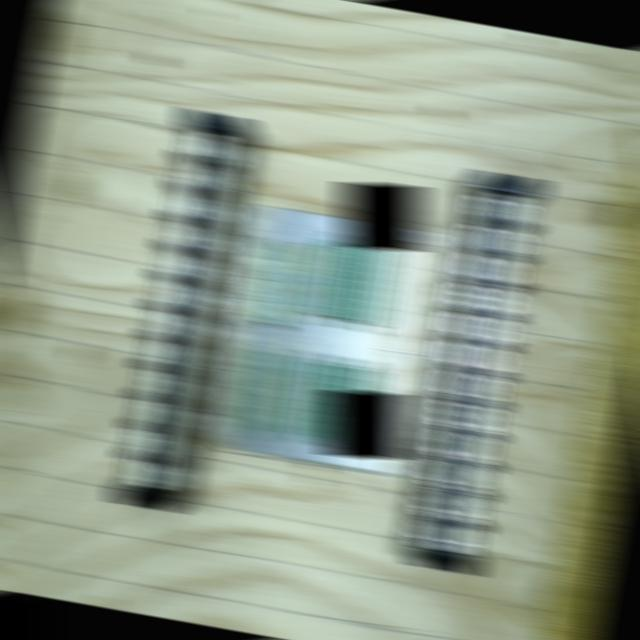Flathead_Block: (113, 106, 250, 514)
Phillips_Block: (411, 168, 545, 576)
Terminal_1: (256, 240, 299, 327), (238, 347, 281, 434)
Terminal_2: (338, 364, 380, 447), (310, 236, 352, 319), (334, 239, 376, 322), (289, 356, 330, 440), (314, 361, 355, 444)
